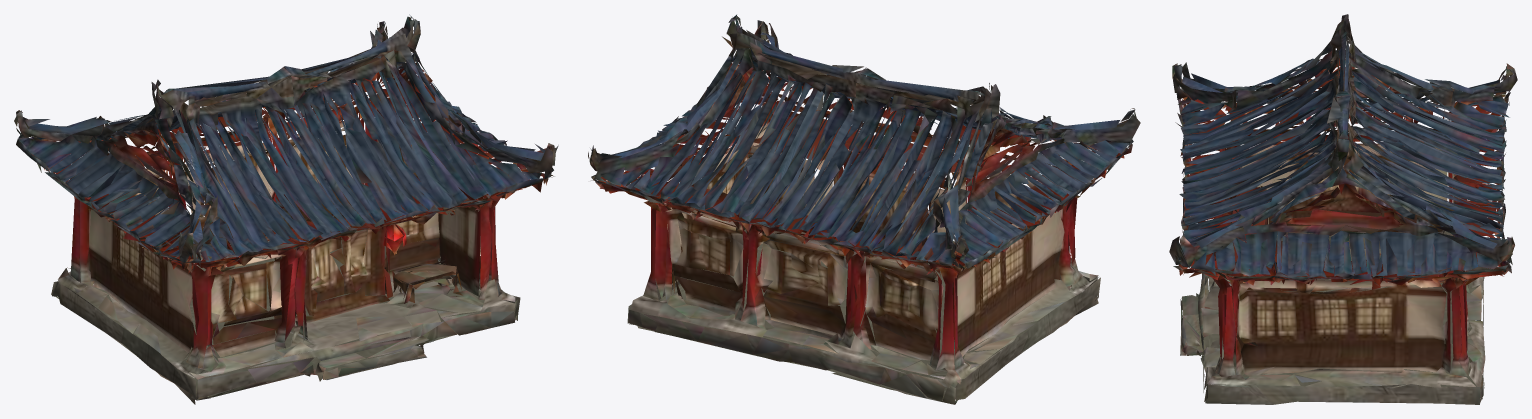
The model's file is casa_p_lod1.glb.
The picture shows the model from 3 angles, left to right: view 1: azimuth 30°, elevation 25°; view 2: azimuth 150°, elevation 25°; view 3: azimuth 270°, elevation 25°; orthographic projection. The views are drawn at different scales.
Visible parts, largest first — view 1: casa_p; view 2: casa_p; view 3: casa_p.
Part boxes in pixels (x1,y1,x2,y2): casa_p: [14, 14, 558, 404]; casa_p: [588, 14, 1140, 404]; casa_p: [1169, 14, 1517, 404].
Bounding box in the file's own units: 6.81 × 4.61 × 5.56.
1 material, 1 textured.
